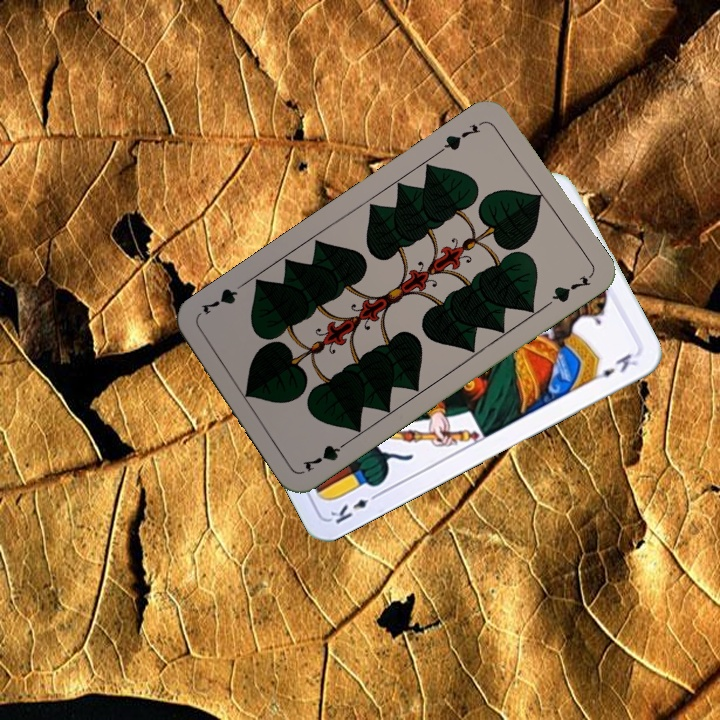EK: (326, 488, 383, 527)
G7: (298, 435, 353, 475), (435, 120, 483, 156)
